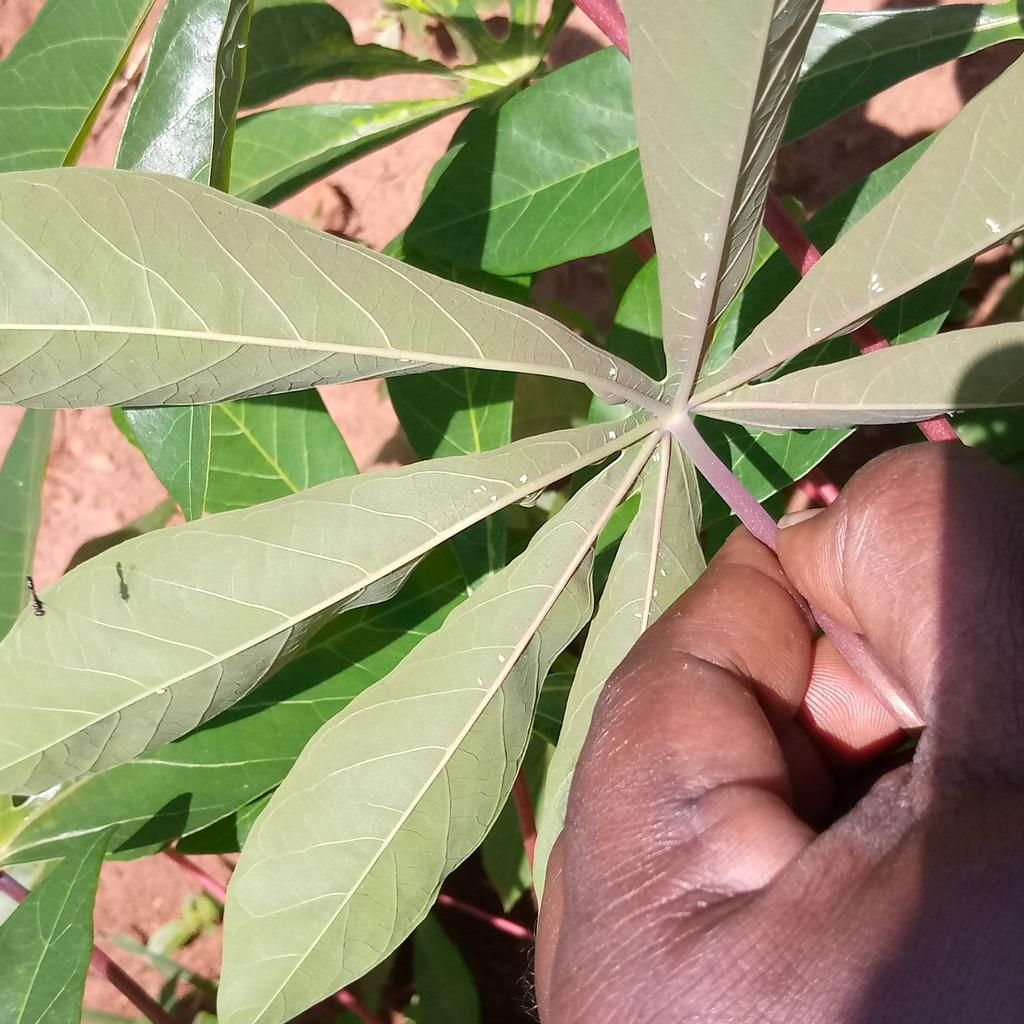adult: (518, 474, 529, 484), (608, 430, 617, 440), (693, 280, 701, 290), (870, 283, 880, 291), (653, 452, 660, 463), (985, 218, 994, 226), (699, 271, 707, 280), (871, 274, 878, 284), (156, 688, 166, 695), (875, 287, 885, 293), (472, 488, 482, 494), (498, 655, 505, 663), (609, 368, 616, 376), (480, 484, 488, 491), (704, 232, 709, 243), (633, 612, 642, 618), (660, 568, 666, 577), (991, 228, 1001, 233), (725, 391, 733, 397), (489, 496, 497, 502), (991, 224, 1000, 229), (237, 44, 246, 49), (477, 678, 483, 685), (813, 327, 821, 332), (400, 358, 410, 362), (653, 590, 658, 597)
